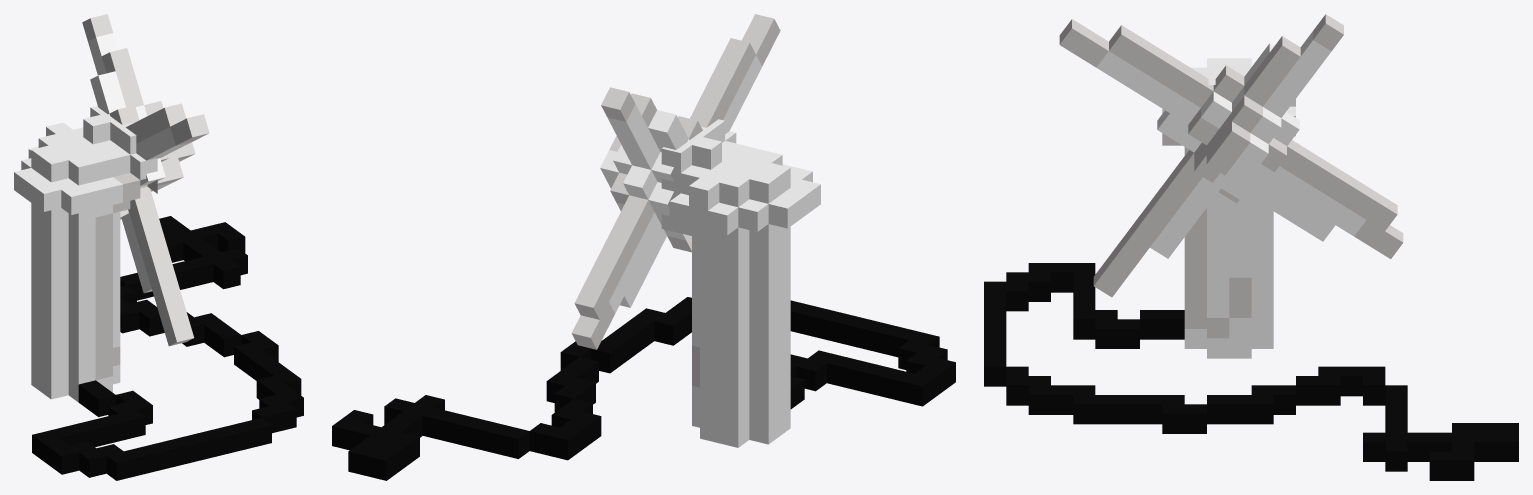
The model's file is windmill 1.fbx.
The picture shows the model from 3 angles, left to right: view 1: azimuth 30°, elevation 25°; view 2: azimuth 150°, elevation 25°; view 3: azimuth 270°, elevation 25°; orthographic projection. The views are drawn at different scales.
Parts seen in each view (by area): view 1: Layer.126; view 2: Layer.126; view 3: Layer.126.
Part boxes in pixels (x1,y1,x2,y2): Layer.126: (14,14,303,480); Layer.126: (332,14,955,480); Layer.126: (984,14,1518,480).
Size of the model in its own units: 2100 by 1768 by 2400.
Materials: 1 (1 with a texture image).
